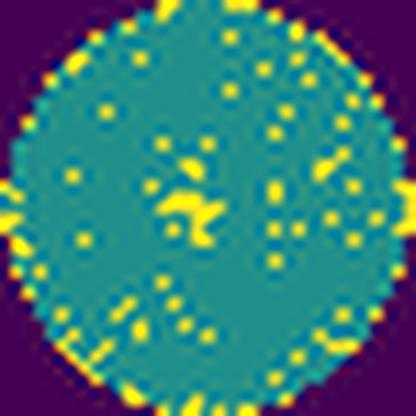Center: (152, 182, 230, 254)
